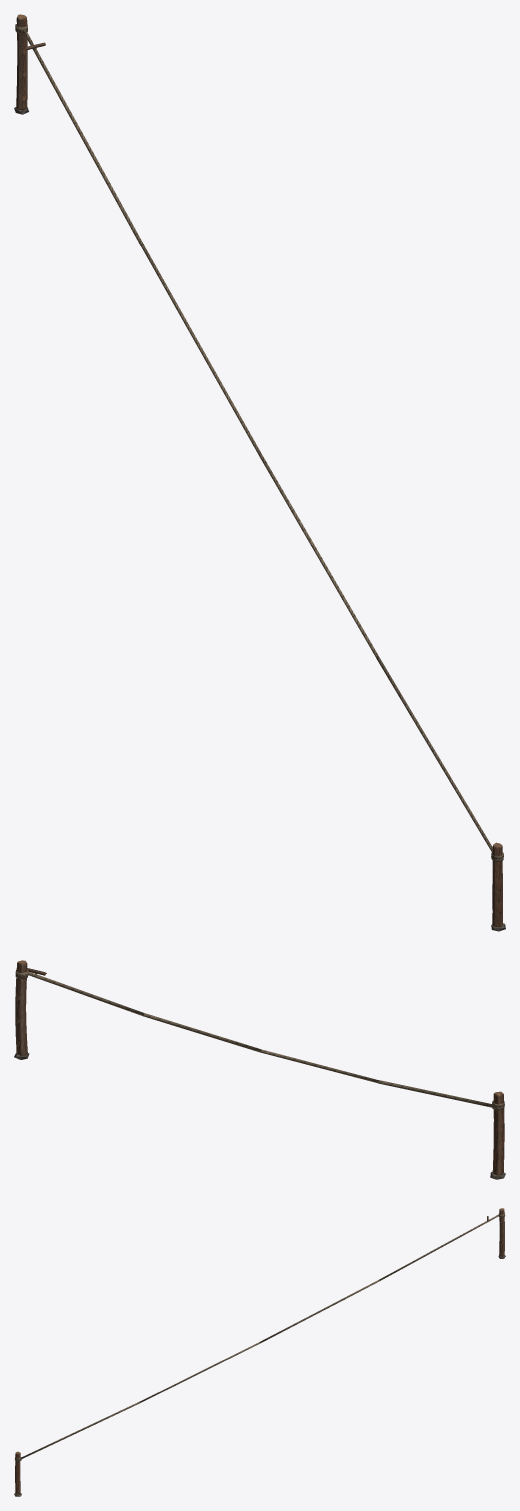
File: rope_slide.glb
3 renders of one model, top to bottom at view 1: azimuth 30°, elevation 25°; view 2: azimuth 150°, elevation 25°; view 3: azimuth 270°, elevation 25°, orthographic. The views are drawn at different scales.
Parts seen in each view (by area): view 1: model; view 2: model; view 3: model.
Boxes of the visible parts, x1,y1,x2,y2 form: model: (14,14,505,931); model: (14,960,505,1179); model: (14,1208,505,1496).
Size of the model in its own units: 0.4593 by 12.35 by 19.19.
14 materials, 14 textured.
